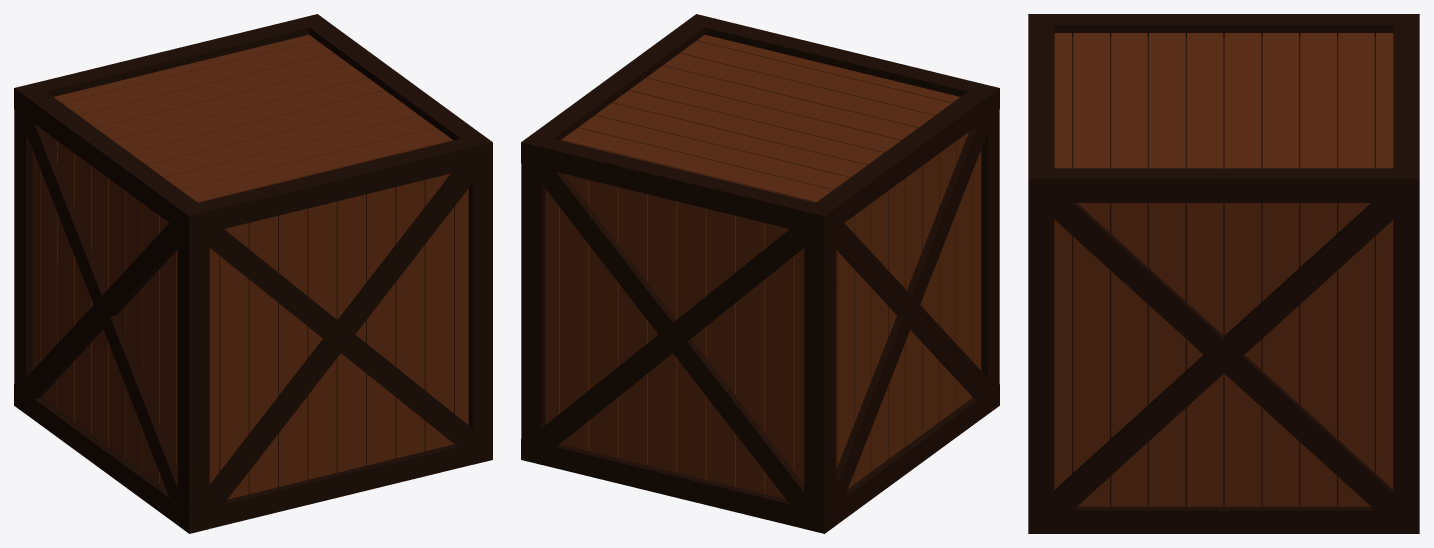
Rendered from Ящик.fbx.
3 renders of one model, left to right at view 1: azimuth 30°, elevation 25°; view 2: azimuth 150°, elevation 25°; view 3: azimuth 270°, elevation 25°, orthographic. The views are drawn at different scales.
Visible parts, largest first — view 1: Box001; view 2: Box001; view 3: Box001.
Part boxes in pixels (x1,y1,x2,y2): Box001: [14, 14, 492, 533]; Box001: [521, 14, 999, 533]; Box001: [1028, 14, 1419, 533].
Size of the model in its own units: 600 by 600 by 600.
